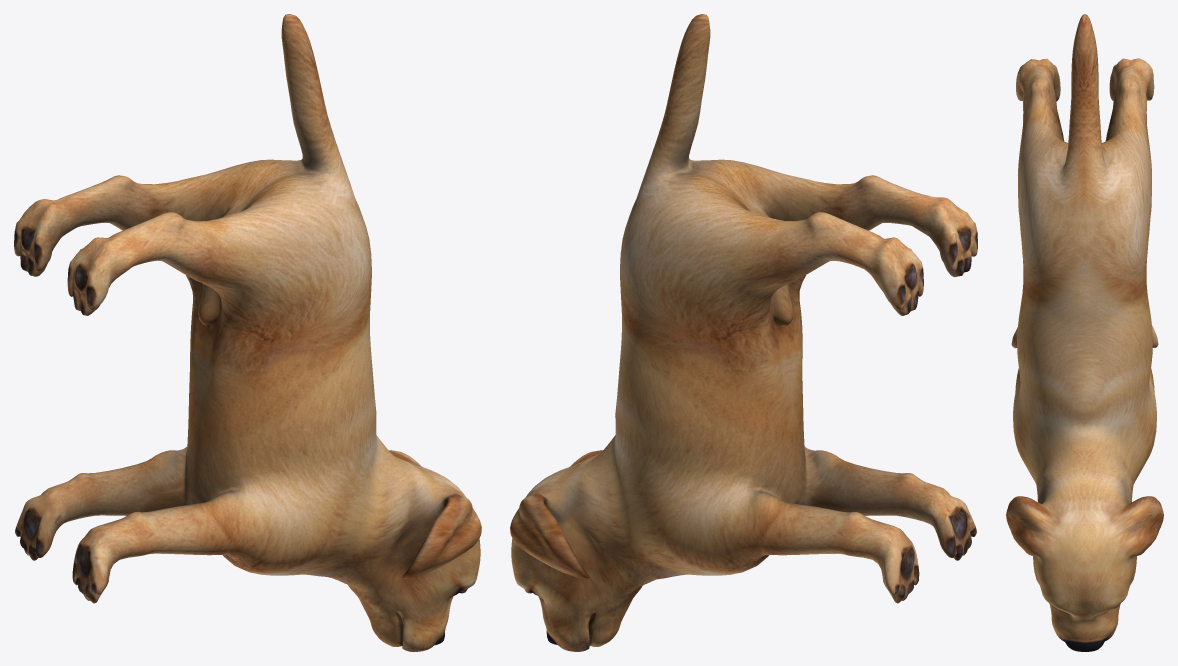
The model's file is pes_roztomily.glb.
The picture shows the model from 3 angles, left to right: view 1: azimuth 30°, elevation 25°; view 2: azimuth 150°, elevation 25°; view 3: azimuth 270°, elevation 25°; orthographic projection. The views are drawn at different scales.
Bounding box in the file's own units: 0.3973 × 0.6 × 0.1493.
1 material, 1 textured.
